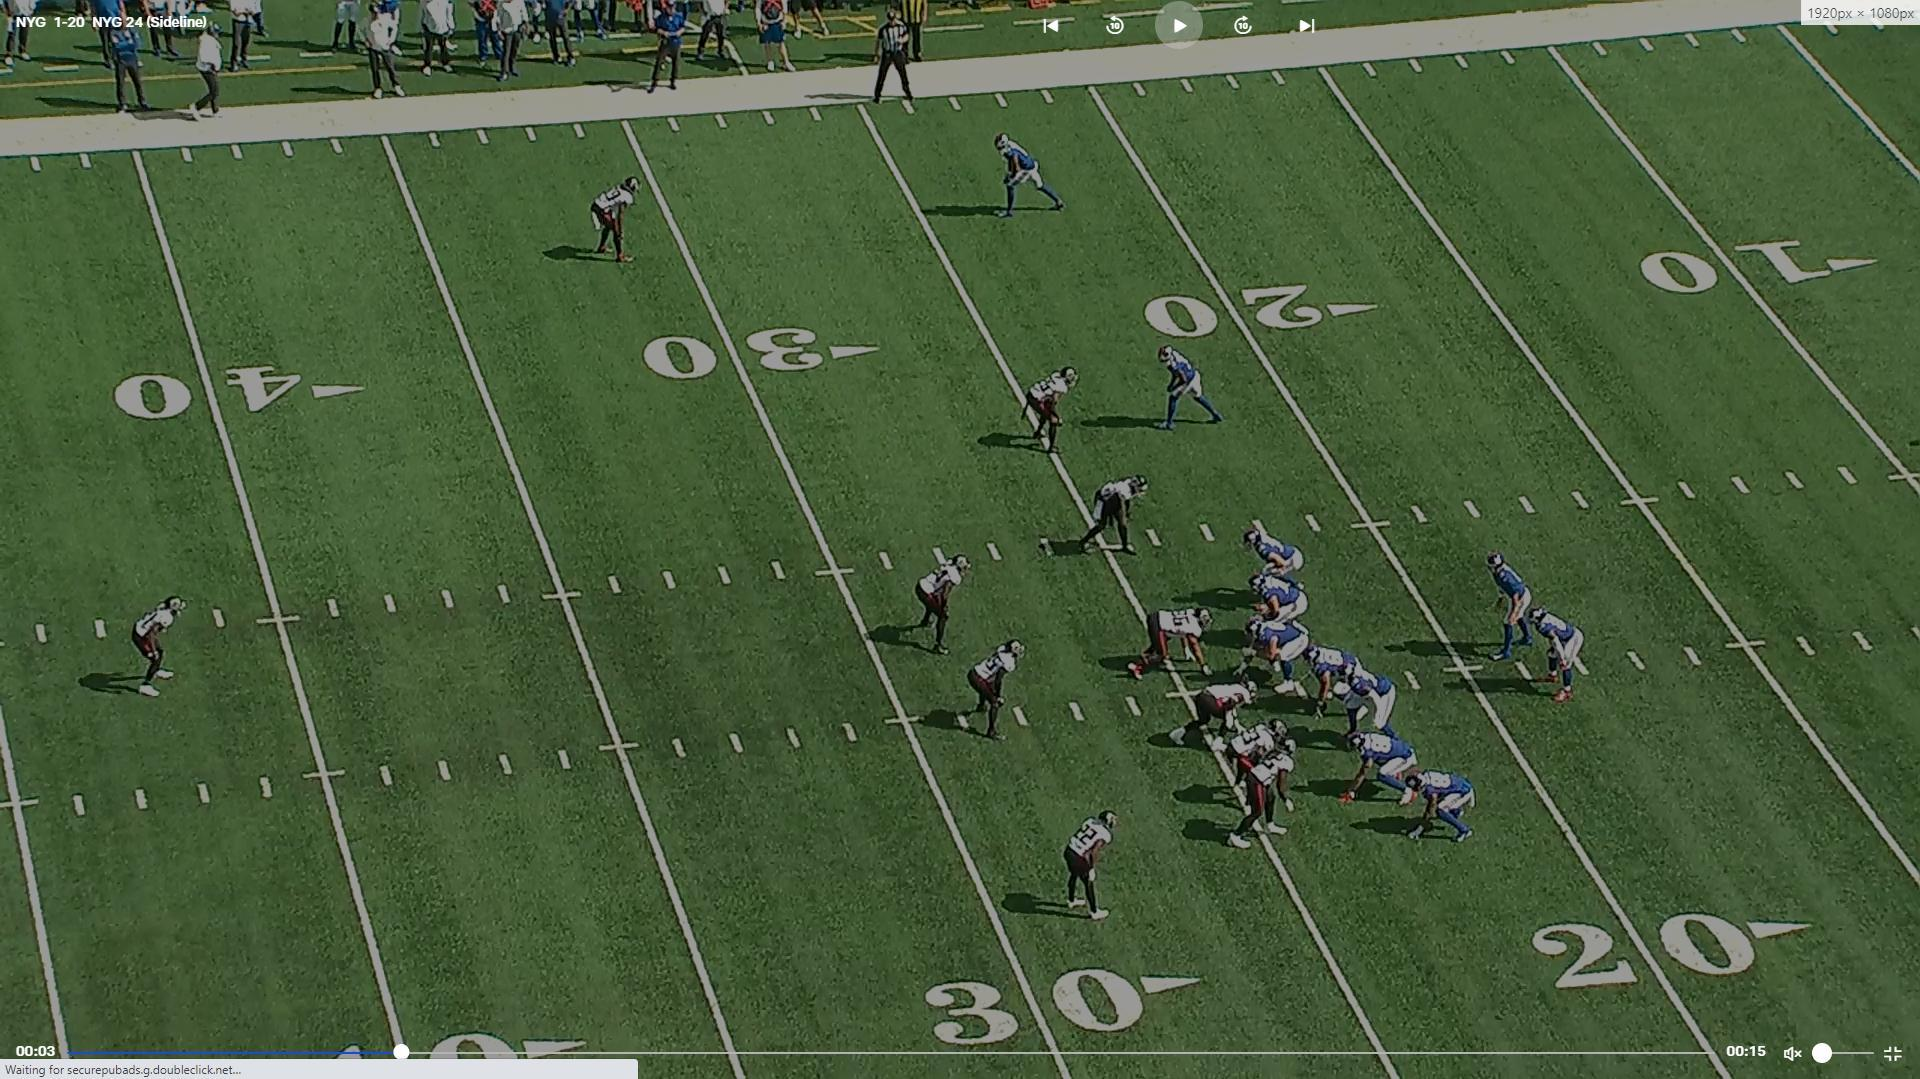defense: (1228, 737, 1296, 859), (1072, 470, 1151, 559), (1166, 678, 1254, 756), (1127, 603, 1215, 681), (1063, 814, 1120, 929), (973, 634, 1031, 740), (135, 595, 189, 700), (1021, 364, 1079, 462), (916, 553, 972, 654), (591, 175, 645, 269), (1221, 720, 1288, 794)
oline: (1336, 665, 1406, 747), (1242, 620, 1312, 700), (1305, 641, 1366, 720), (1245, 528, 1305, 582), (1249, 571, 1309, 624)
qb: (1485, 549, 1535, 662)
ref: (866, 15, 916, 109)
skill: (1153, 339, 1232, 434), (992, 131, 1069, 224), (1532, 603, 1592, 706), (1344, 731, 1422, 807), (1408, 769, 1481, 848)
